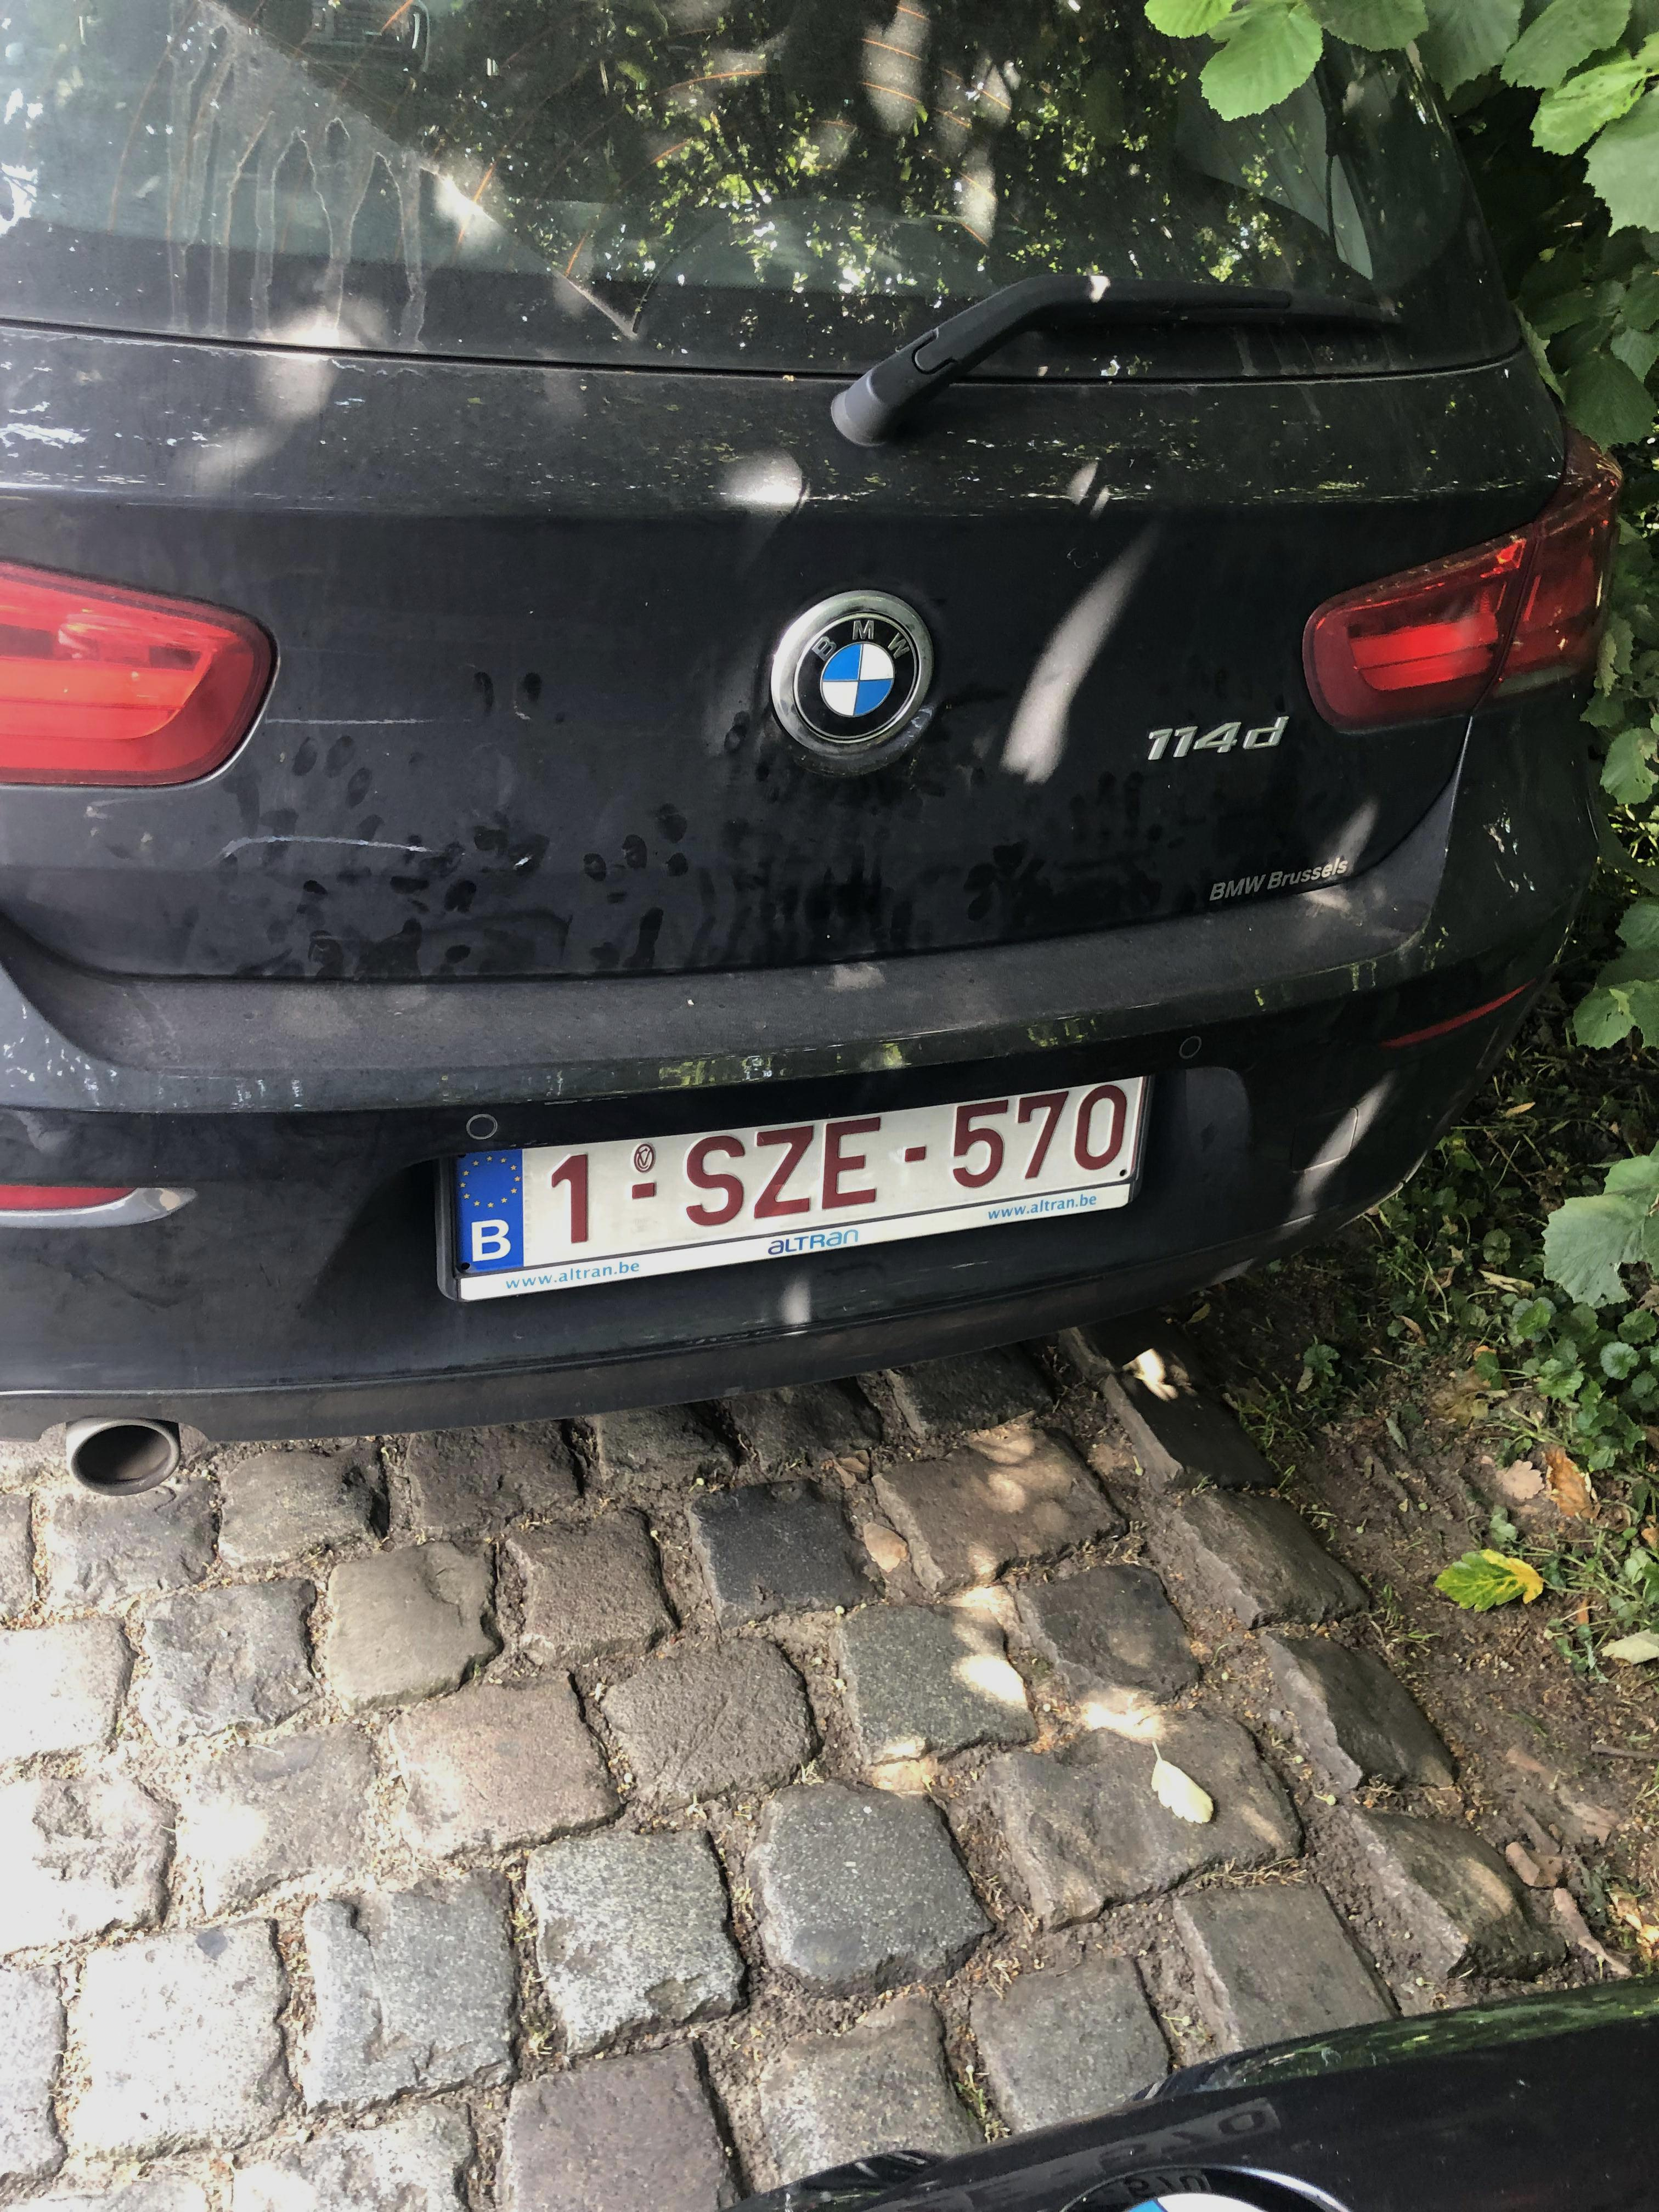plate: (403, 1047, 1159, 1317)
